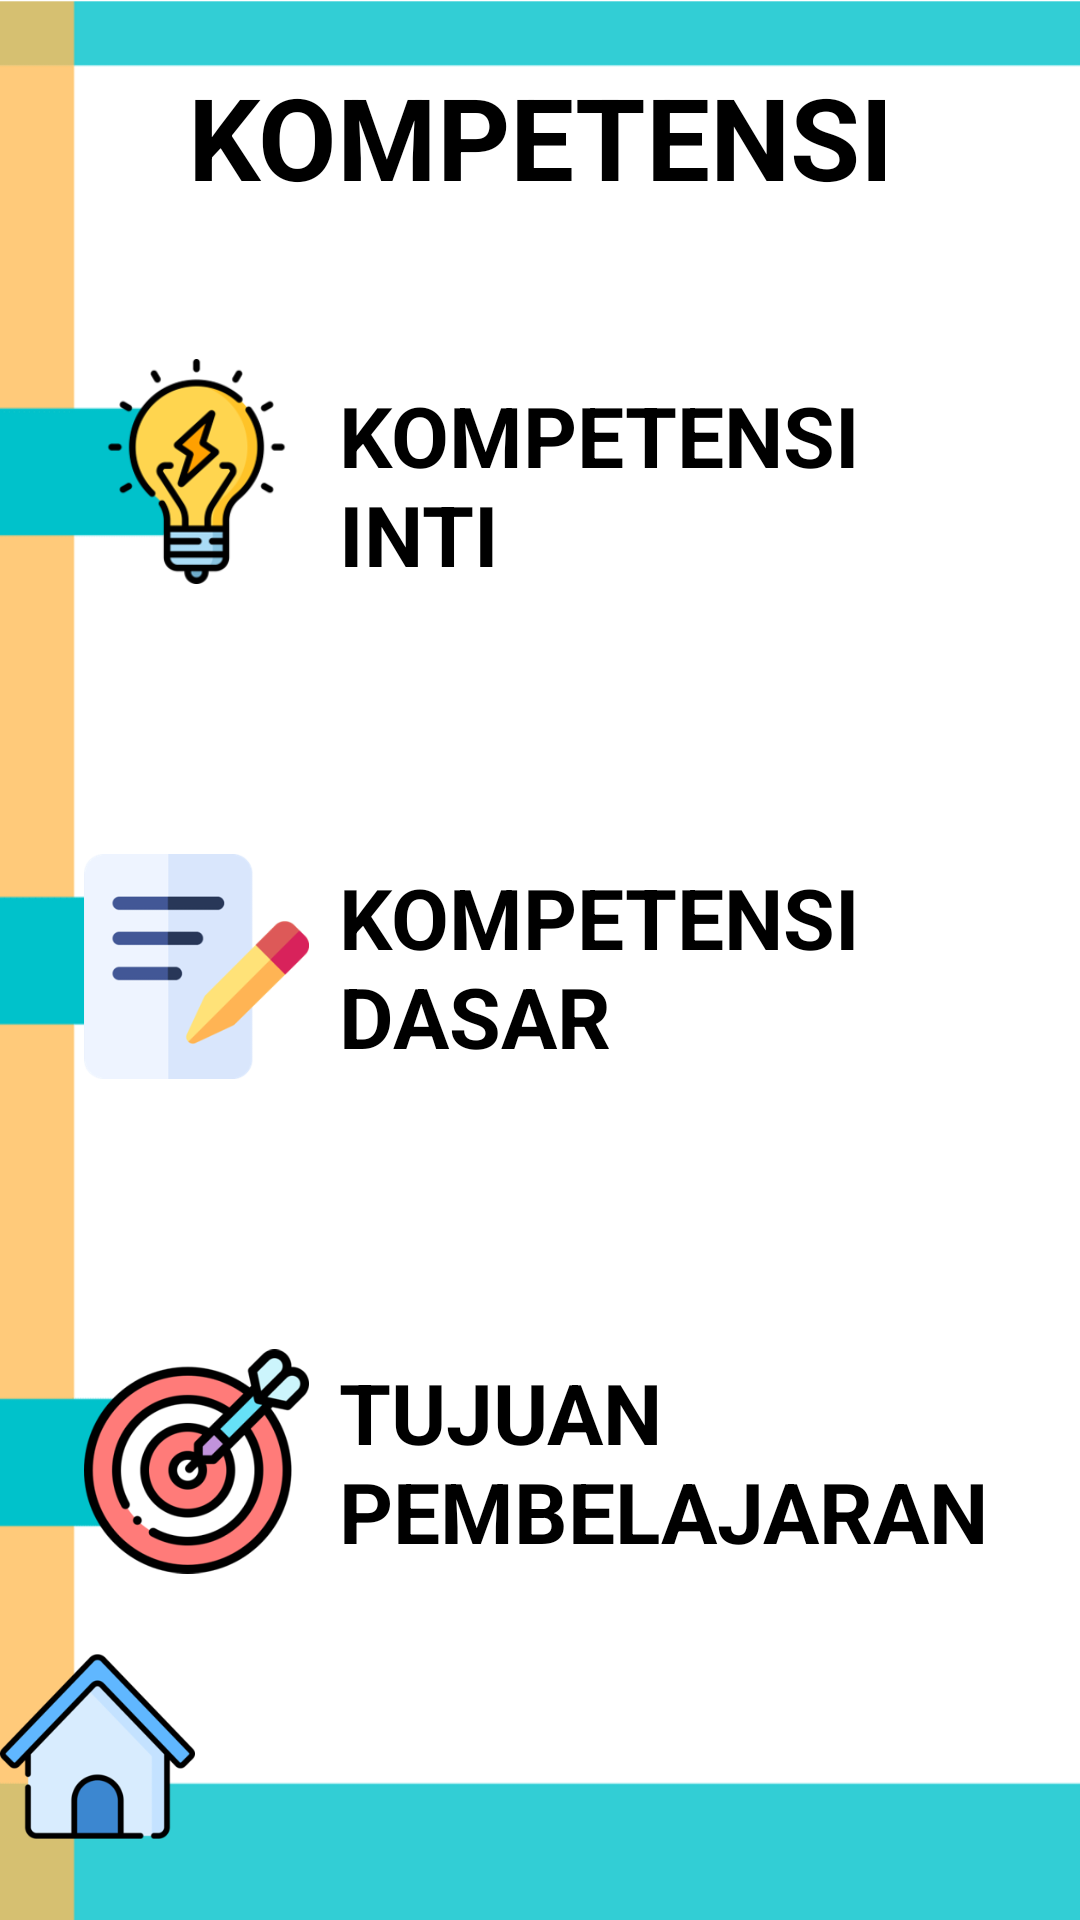

Point at icon controls on the screen. Image size 1080 × 1920, points as (x,y).
home: (97,1746)
